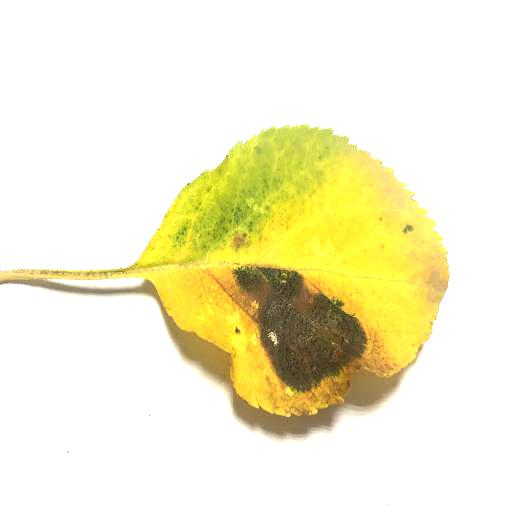Brown_Spot: (221, 271, 382, 398)
